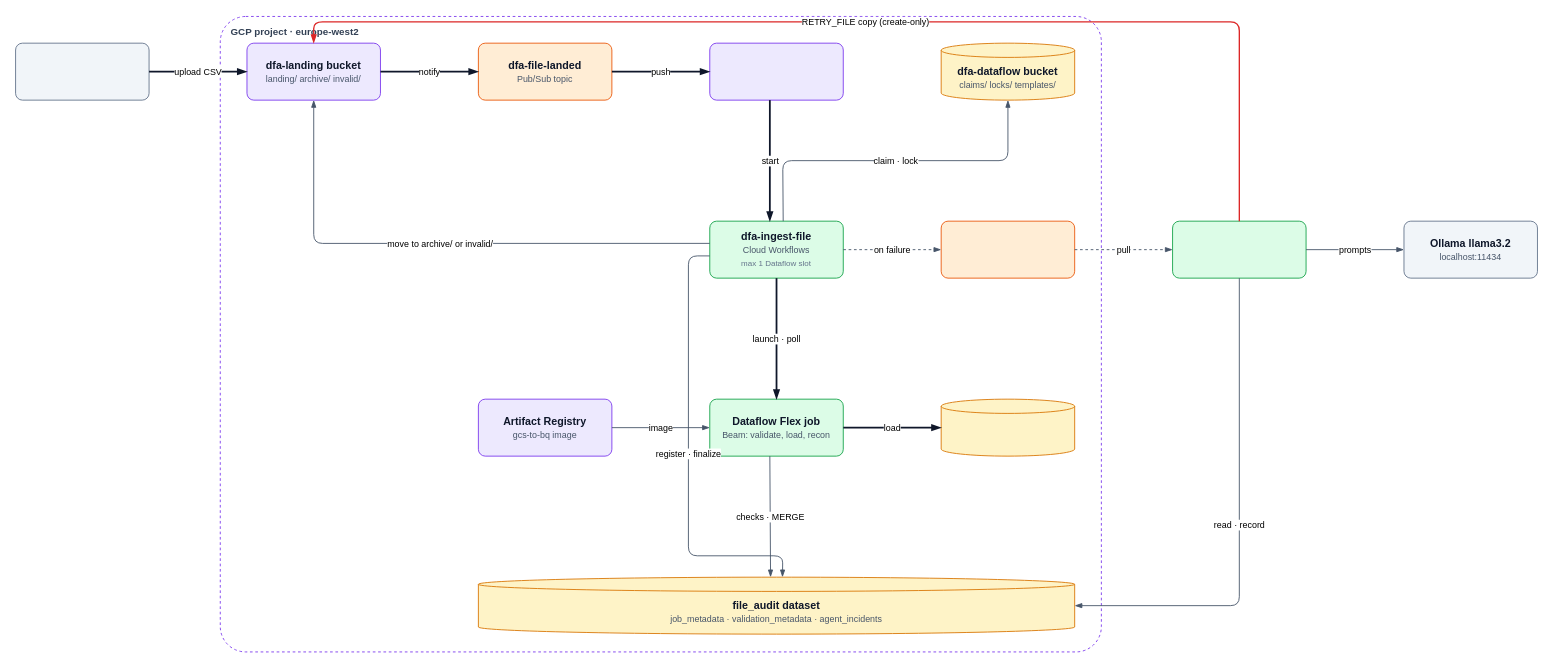
Some shapes in this 1553 by 668 pixel diagram are drawn without their labels. Each missing label, with the centre of its shape:
"Data provider <entity>_<YYYYMMDD>.csv" belongs at point 82,71.
"df-agent LangGraph, runs locally read-only + create-only" belongs at point 1239,249.
"dfa-ingest-errors topic + pull sub" belongs at point 1007,249.
"Eventarc trigger 1 execution / message" belongs at point 776,71.
"raw.<entity> customer user orders" belongs at point 1007,427.
